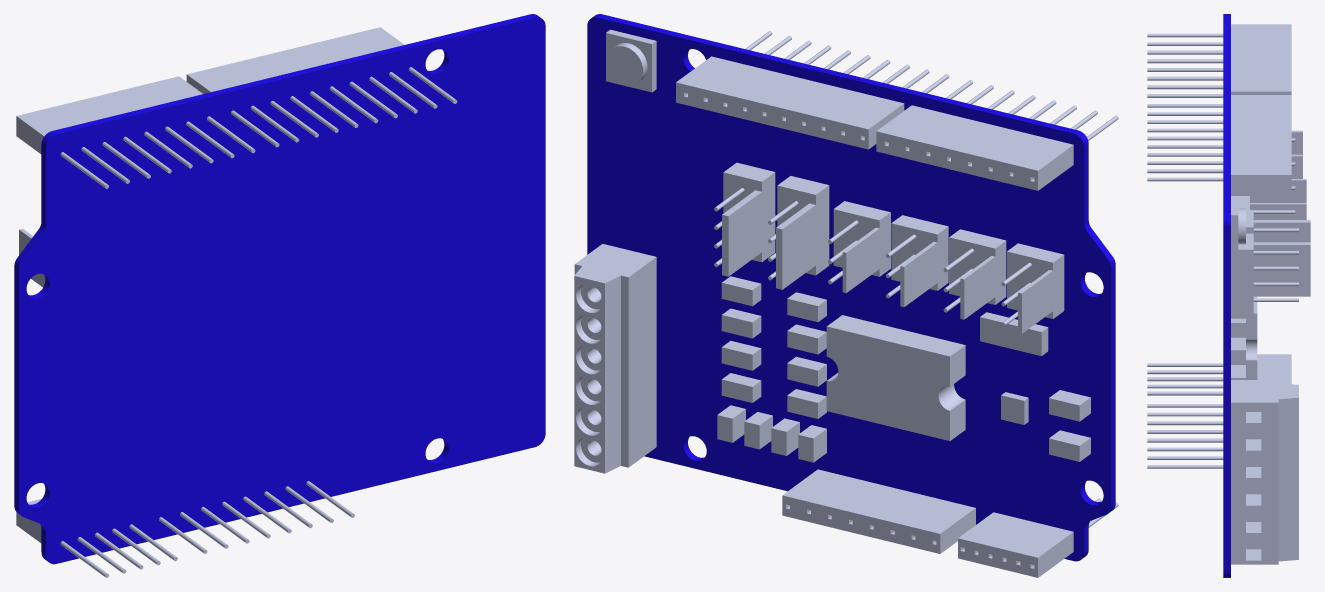
Rendered from Unnamed2-arduino motor shield.gltf.
The picture shows the model from 3 angles, left to right: view 1: azimuth 30°, elevation 25°; view 2: azimuth 150°, elevation 25°; view 3: azimuth 270°, elevation 25°; orthographic projection. The views are drawn at different scales.
Parts seen in each view (by area): view 1: arduino motor shield; view 2: arduino motor shield; view 3: arduino motor shield.
Part boxes in pixels (<box>): arduino motor shield: <box>14,14,545,577</box>; arduino motor shield: <box>574,14,1118,577</box>; arduino motor shield: <box>1147,14,1310,577</box>.
Size of the model in its own units: 0.068 by 0.053 by 0.0215.
